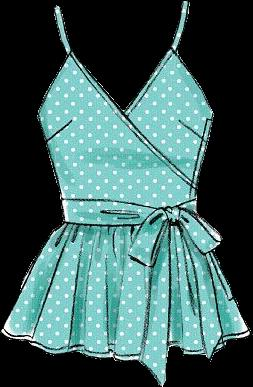Bodice: (1, 49, 249, 386)
Neckline: (69, 48, 173, 114), (61, 196, 199, 211), (62, 216, 197, 228)
Waistline: (0, 328, 252, 386)
